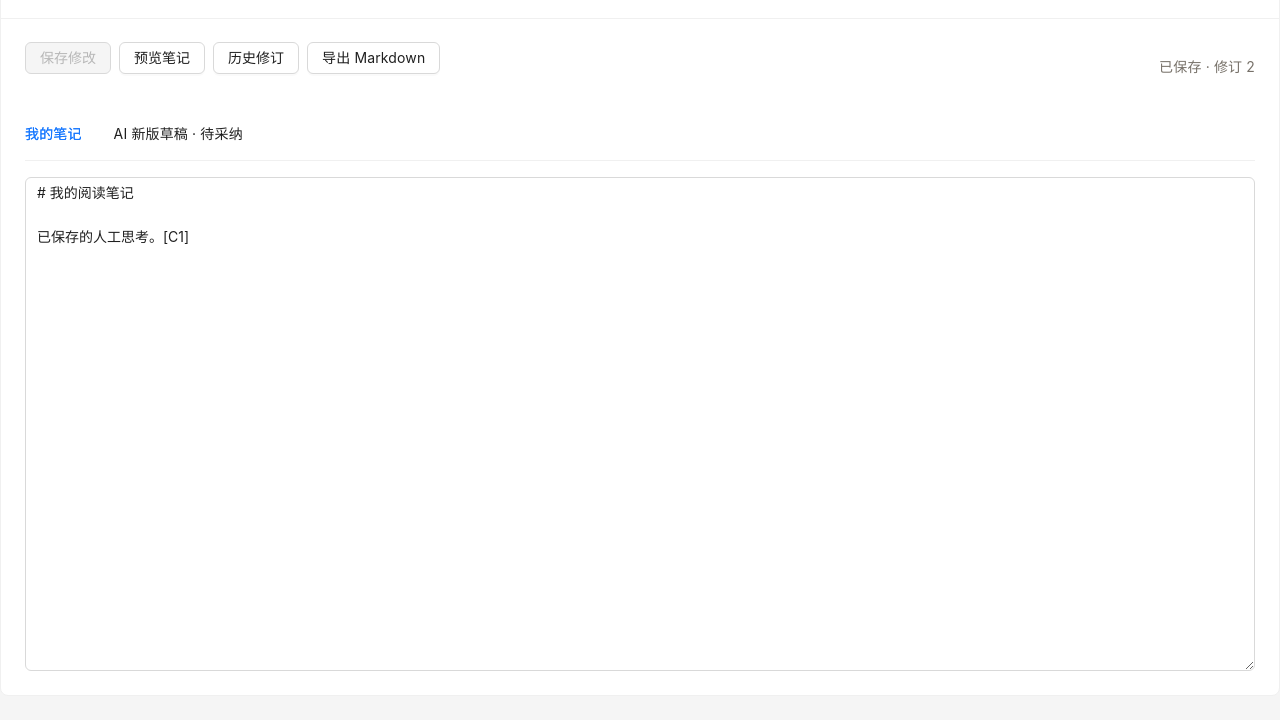
Test case: 协同阅读与独立笔记（软件流程夹具） › preserves the local draft on 409 and saves only after explicit comparison with the latest version
The width and height of the screenshot is (1280, 720).
(page scrolled)
Replace the text in the text box named "笔记内容" with "本地修改不会丢失" at (640, 424), box x1=25 y1=177 x2=1255 y2=671
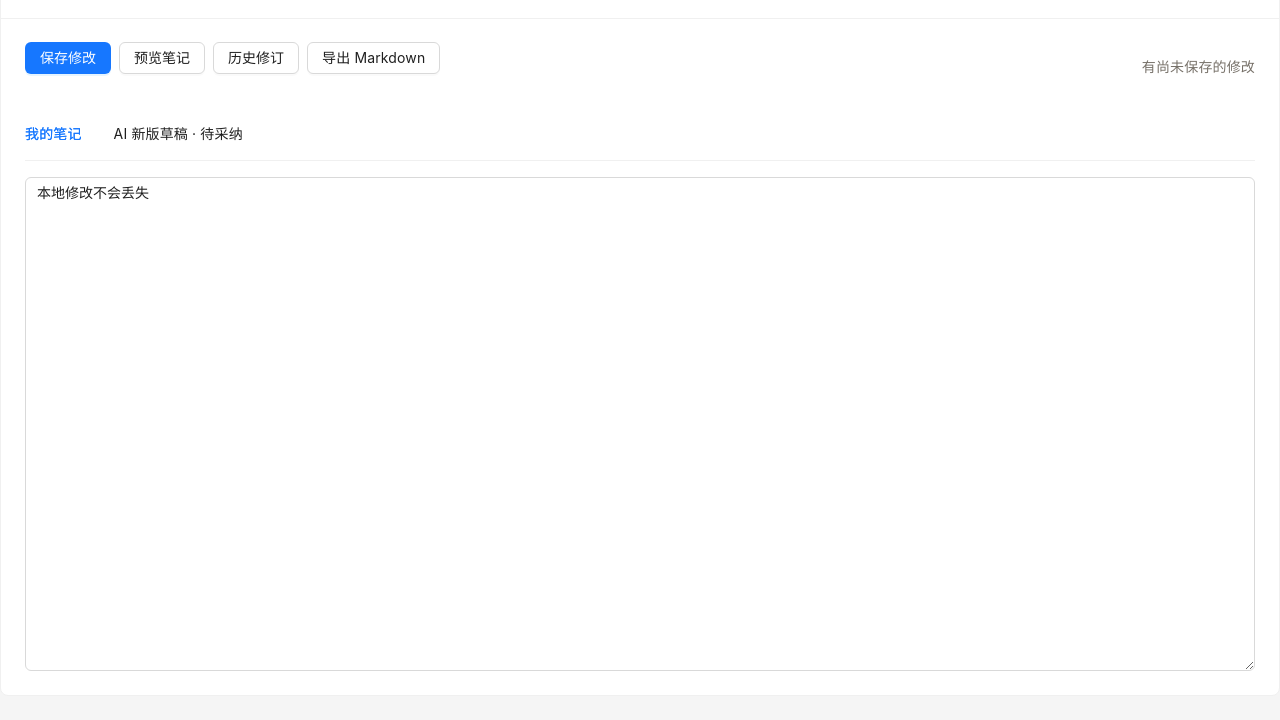
Click the button "保存修改" at (68, 58), box x1=25 y1=42 x2=111 y2=74
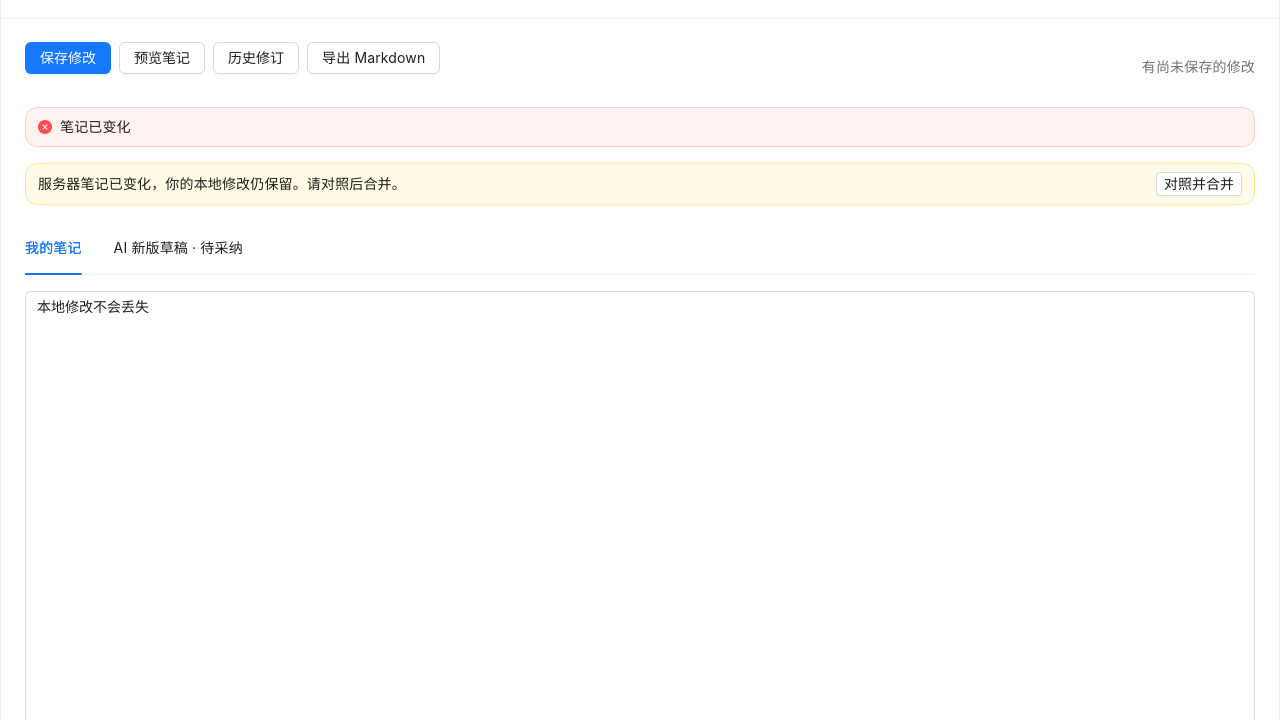
Click the button "对照并合并" at (1199, 184), box x1=1156 y1=172 x2=1242 y2=196
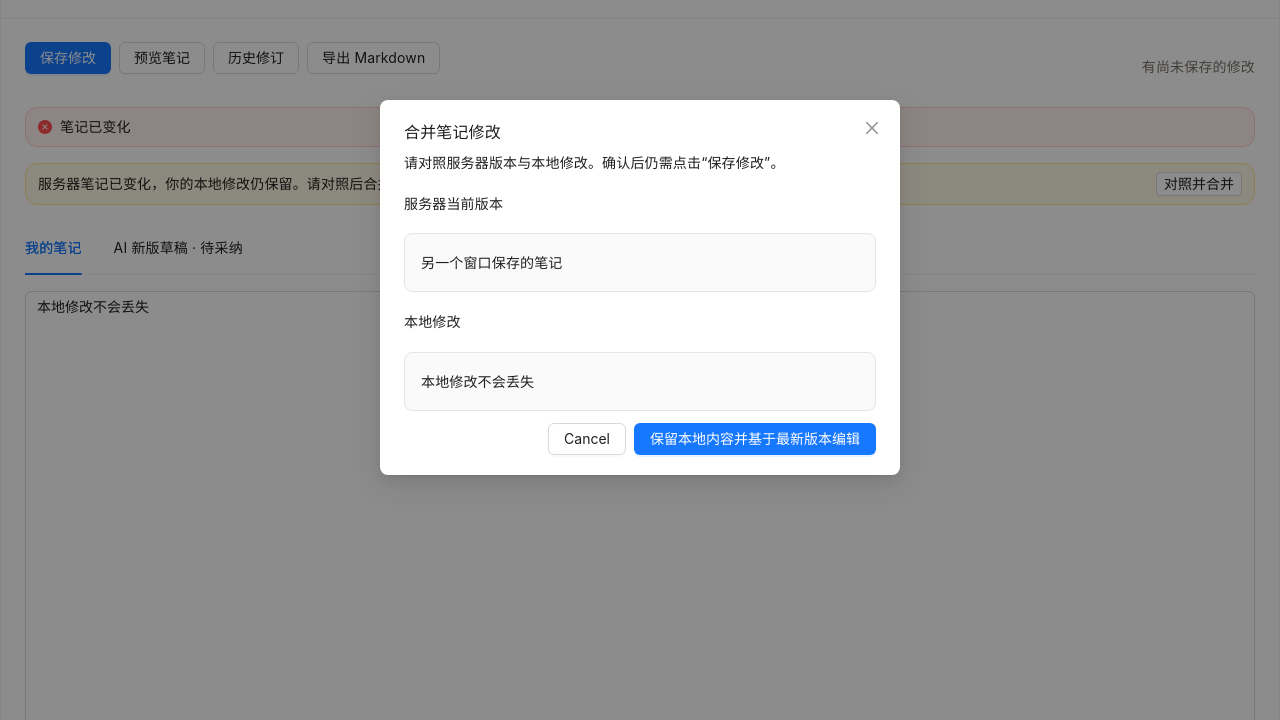
Result: the text "另一个窗口保存的笔记" is shown at x1=404 y1=233 x2=876 y2=292
Click the button "保留本地内容并基于最新版本编辑" at (755, 439), box x1=634 y1=423 x2=876 y2=455
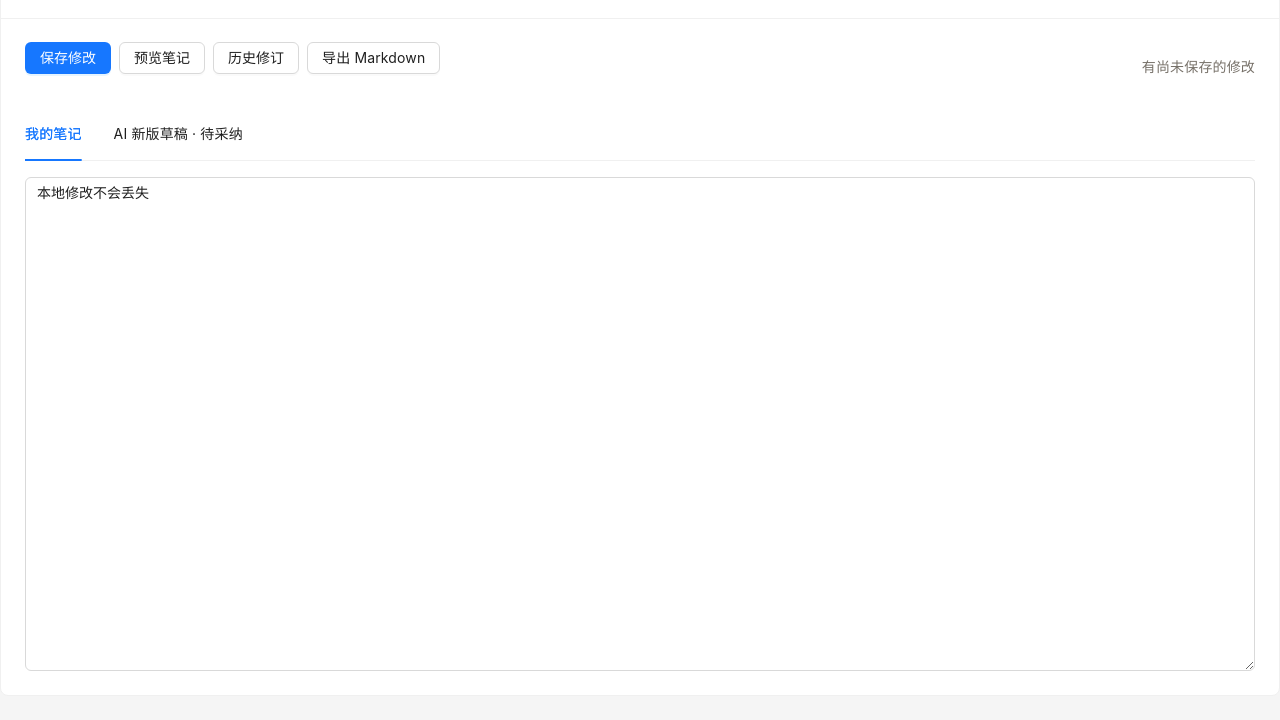
Click the button "保存修改" at (68, 58), box x1=25 y1=42 x2=111 y2=74
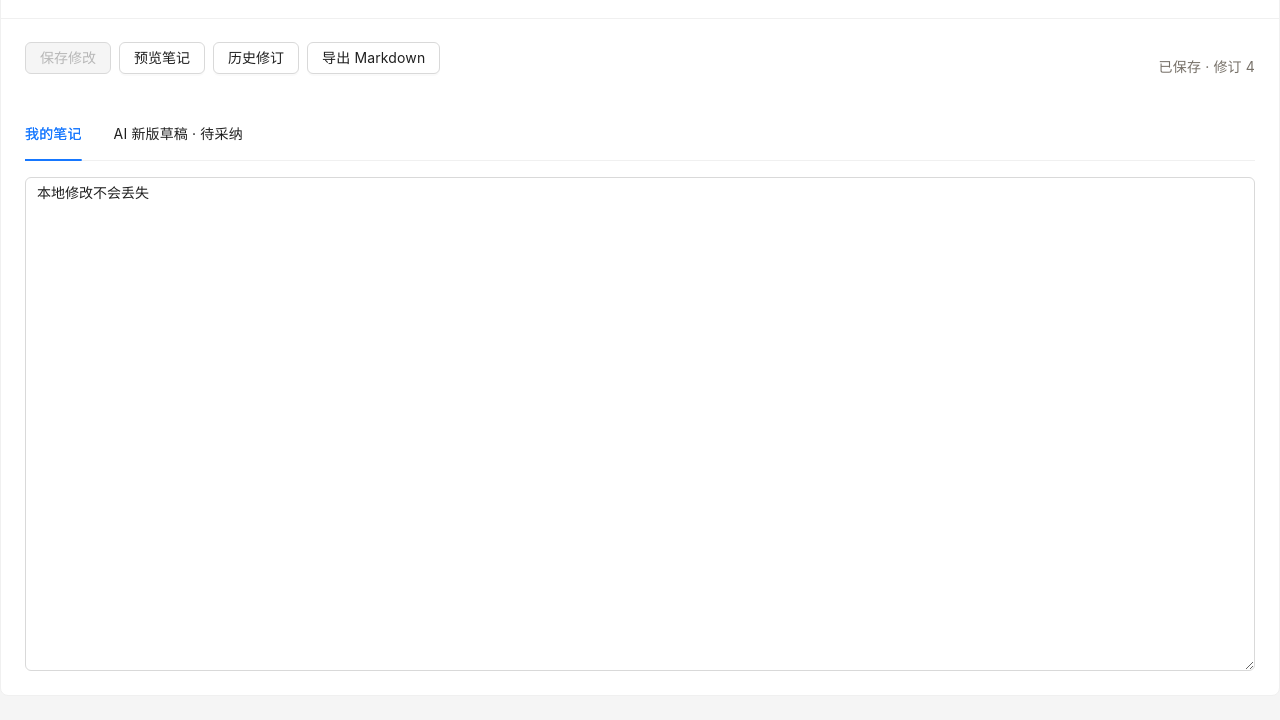
Result: the text "已保存 · 修订 4" is shown at x1=1159 y1=54 x2=1255 y2=79
